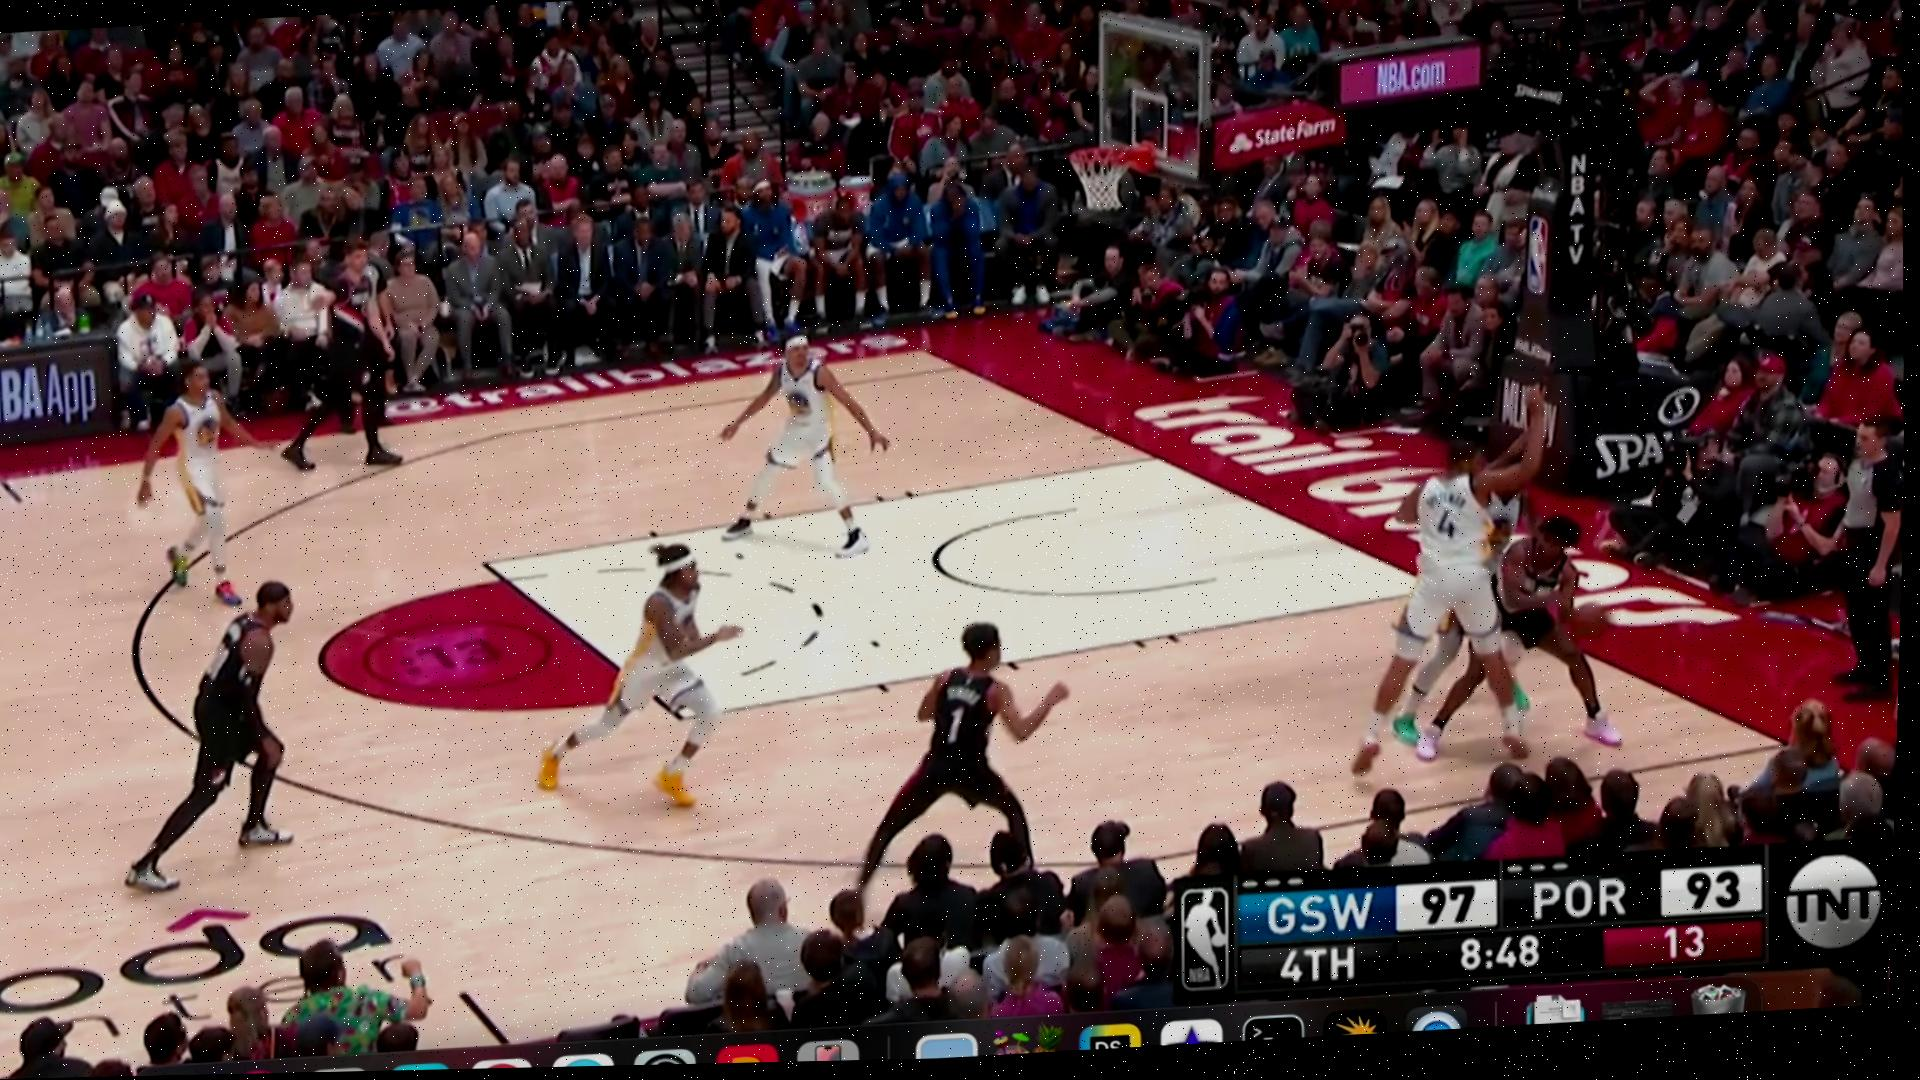no_foul: (1403, 414, 1598, 740)
